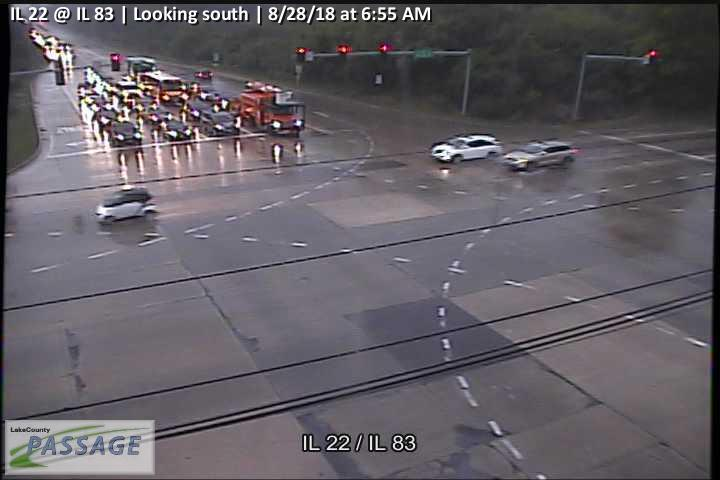SUV: (502, 140, 577, 172), (198, 108, 240, 136), (108, 120, 143, 147)
Sedan: (94, 186, 157, 224), (432, 134, 502, 163), (160, 120, 194, 141)
Truck: (235, 80, 306, 134)
